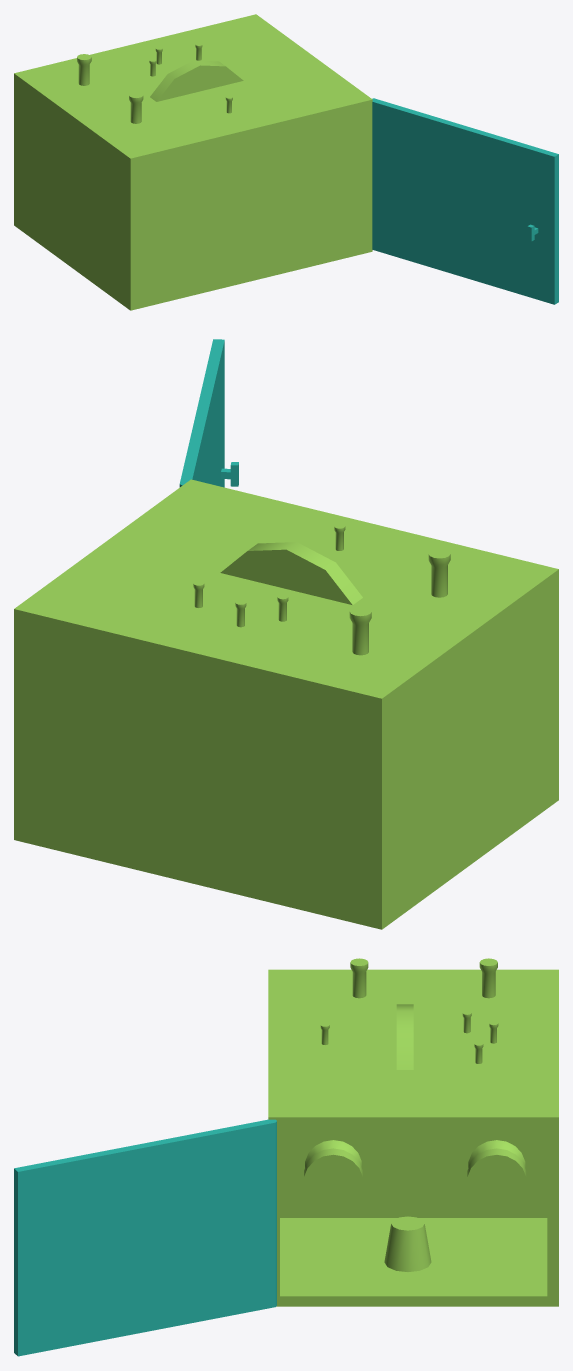
The model's file is SM_Telephone_Radio.fbx.
The picture shows the model from 3 angles, top to bottom: view 1: azimuth 30°, elevation 25°; view 2: azimuth 150°, elevation 25°; view 3: azimuth 270°, elevation 25°; orthographic projection. The views are drawn at different scales.
Visible parts, largest first — view 1: invention_010, door_002; view 2: invention_010, door_002; view 3: invention_010, door_002.
Boxes of the visible parts, bbox=[...] form: invention_010: bbox=[14, 14, 372, 310]; door_002: bbox=[372, 98, 558, 304]; invention_010: bbox=[14, 479, 558, 929]; door_002: bbox=[179, 339, 238, 487]; invention_010: bbox=[268, 958, 558, 1306]; door_002: bbox=[14, 1119, 276, 1356].
Size of the model in its own units: 40.62 by 21.14 by 46.88.
